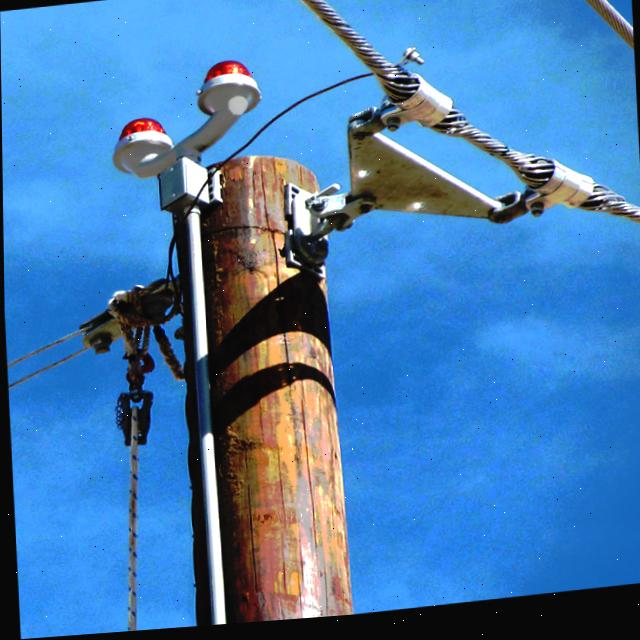poles: (78, 65, 351, 629)
wires: (297, 0, 640, 235), (118, 389, 155, 633), (6, 324, 99, 391), (573, 0, 633, 64)
